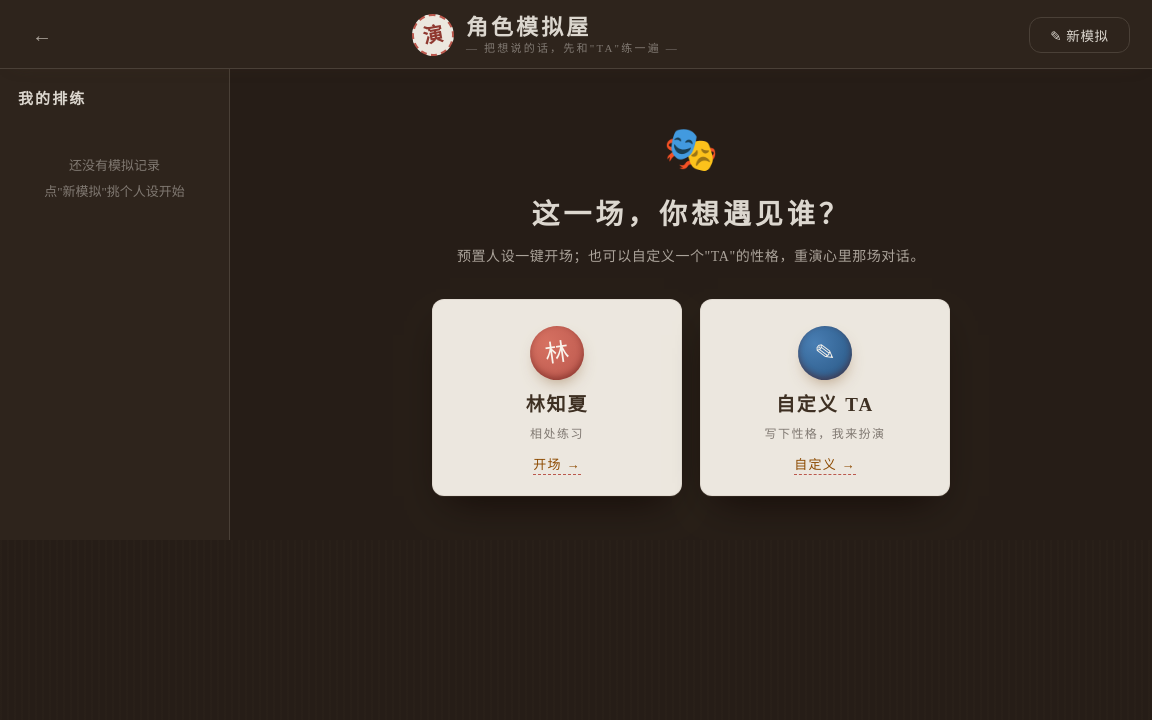
Test case: Sandbox：空态与创建会话 › 无会话时给侧栏引导 + 欢迎人设墙；点「新模拟」切到自定义面板（两面互斥）
The width and height of the screenshot is (1152, 720).
Expected: the element with class "sb-side-empty" shows "还没有模拟记录", [69, 158, 160, 173]
Expected: the element with class "sb-welcome" is shown, [432, 121, 950, 496]
Click the button with class "new-chat-btn" at (1079, 35), box [1029, 17, 1130, 53]
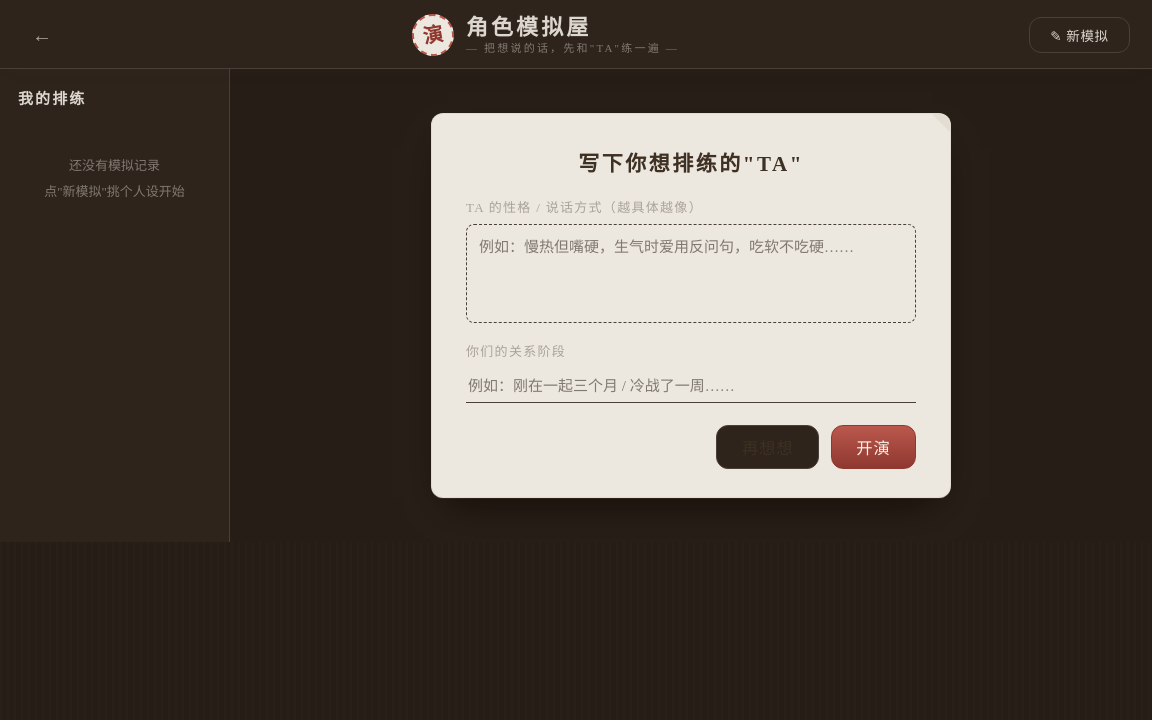
Expected: the element with class "sb-custom" is shown, [431, 113, 951, 498]
